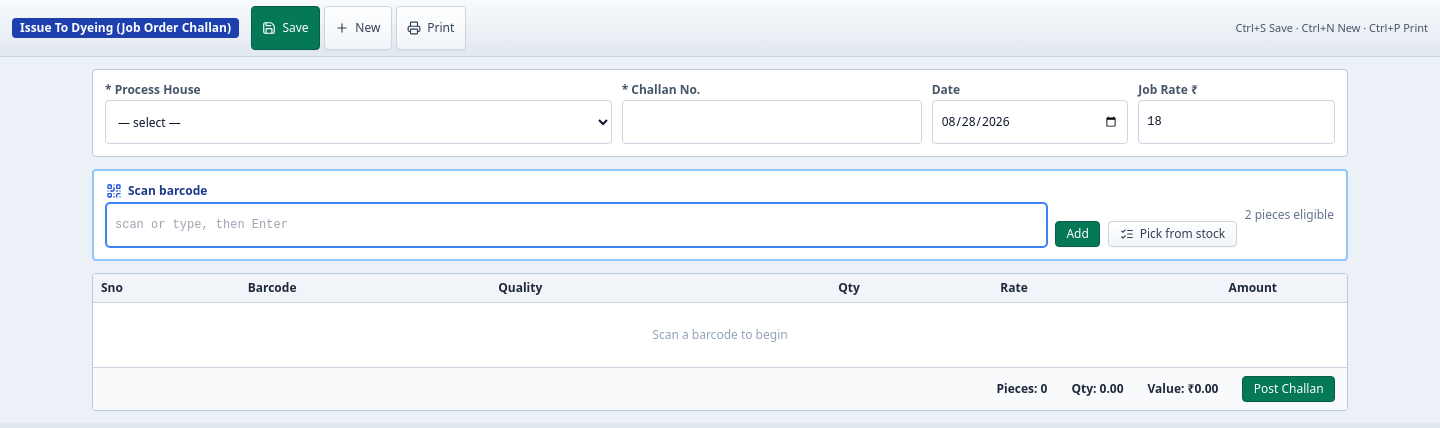
it: scanning pieces onto a challan › a scanned piece is added to the challan
Expected: the text "2 pieces eligible" is shown, x1=1245 y1=207 x2=1334 y2=223
Step 1. Type "NKT001" into the field labelled "Scan barcode" → (577, 225), box x1=106 y1=203 x2=1047 y2=247
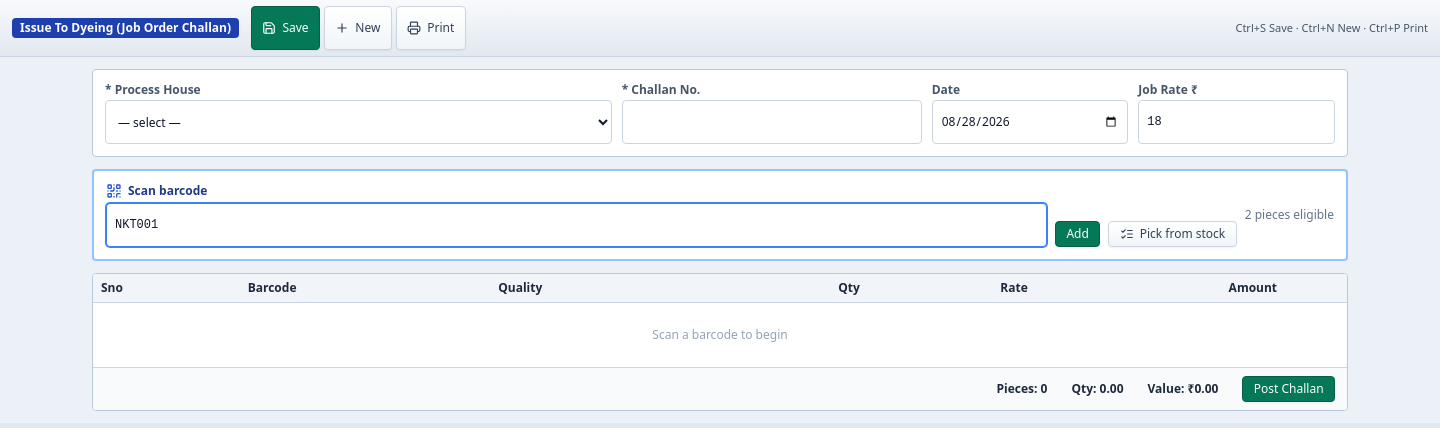
Step 2. Click the button "Add" → (1078, 234), box x1=1055 y1=221 x2=1100 y2=247
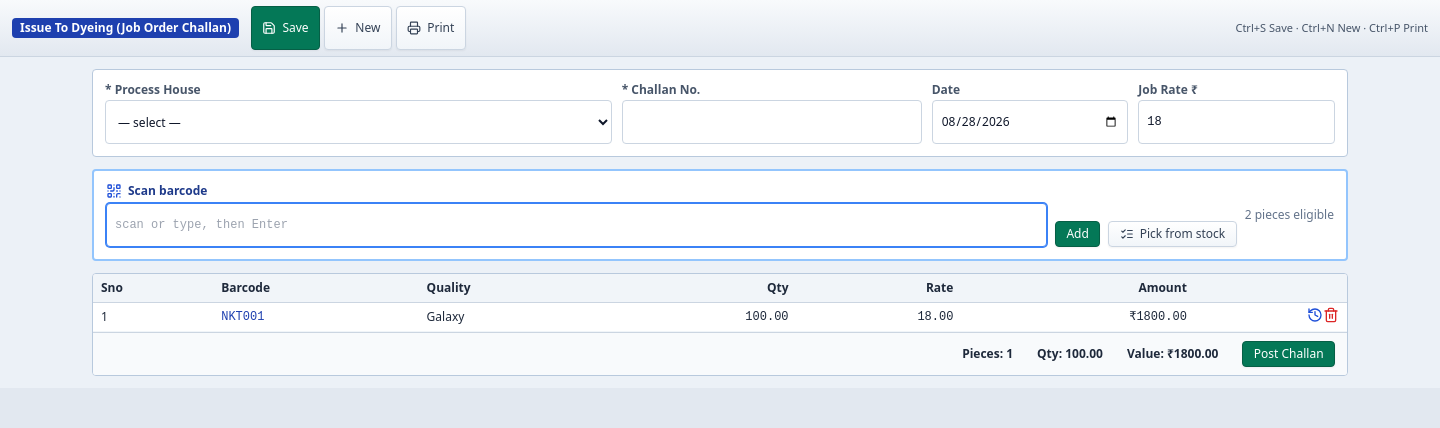
Expected: the text "NKT001" is shown, x1=213 y1=302 x2=419 y2=332
Expected: the text "Pieces: 1" is shown, x1=962 y1=346 x2=1013 y2=362
